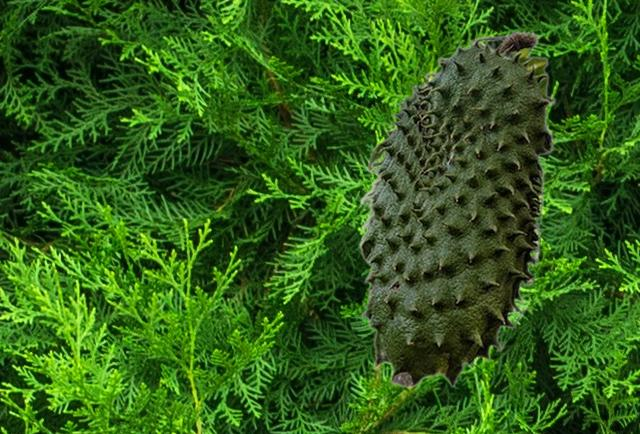guyabano: (357, 30, 555, 388)
